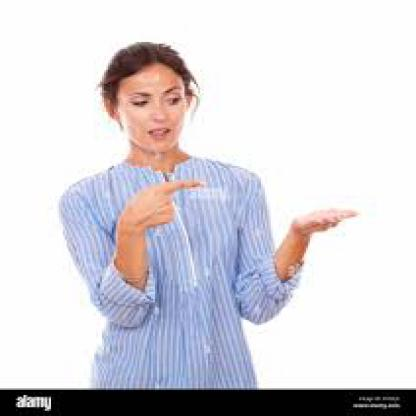Left: (117, 169, 222, 240)
